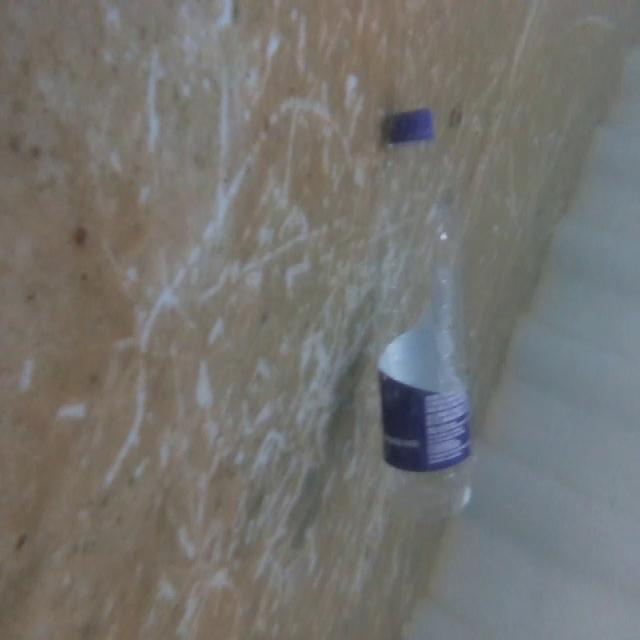plastic bottle: (339, 65, 496, 540)
